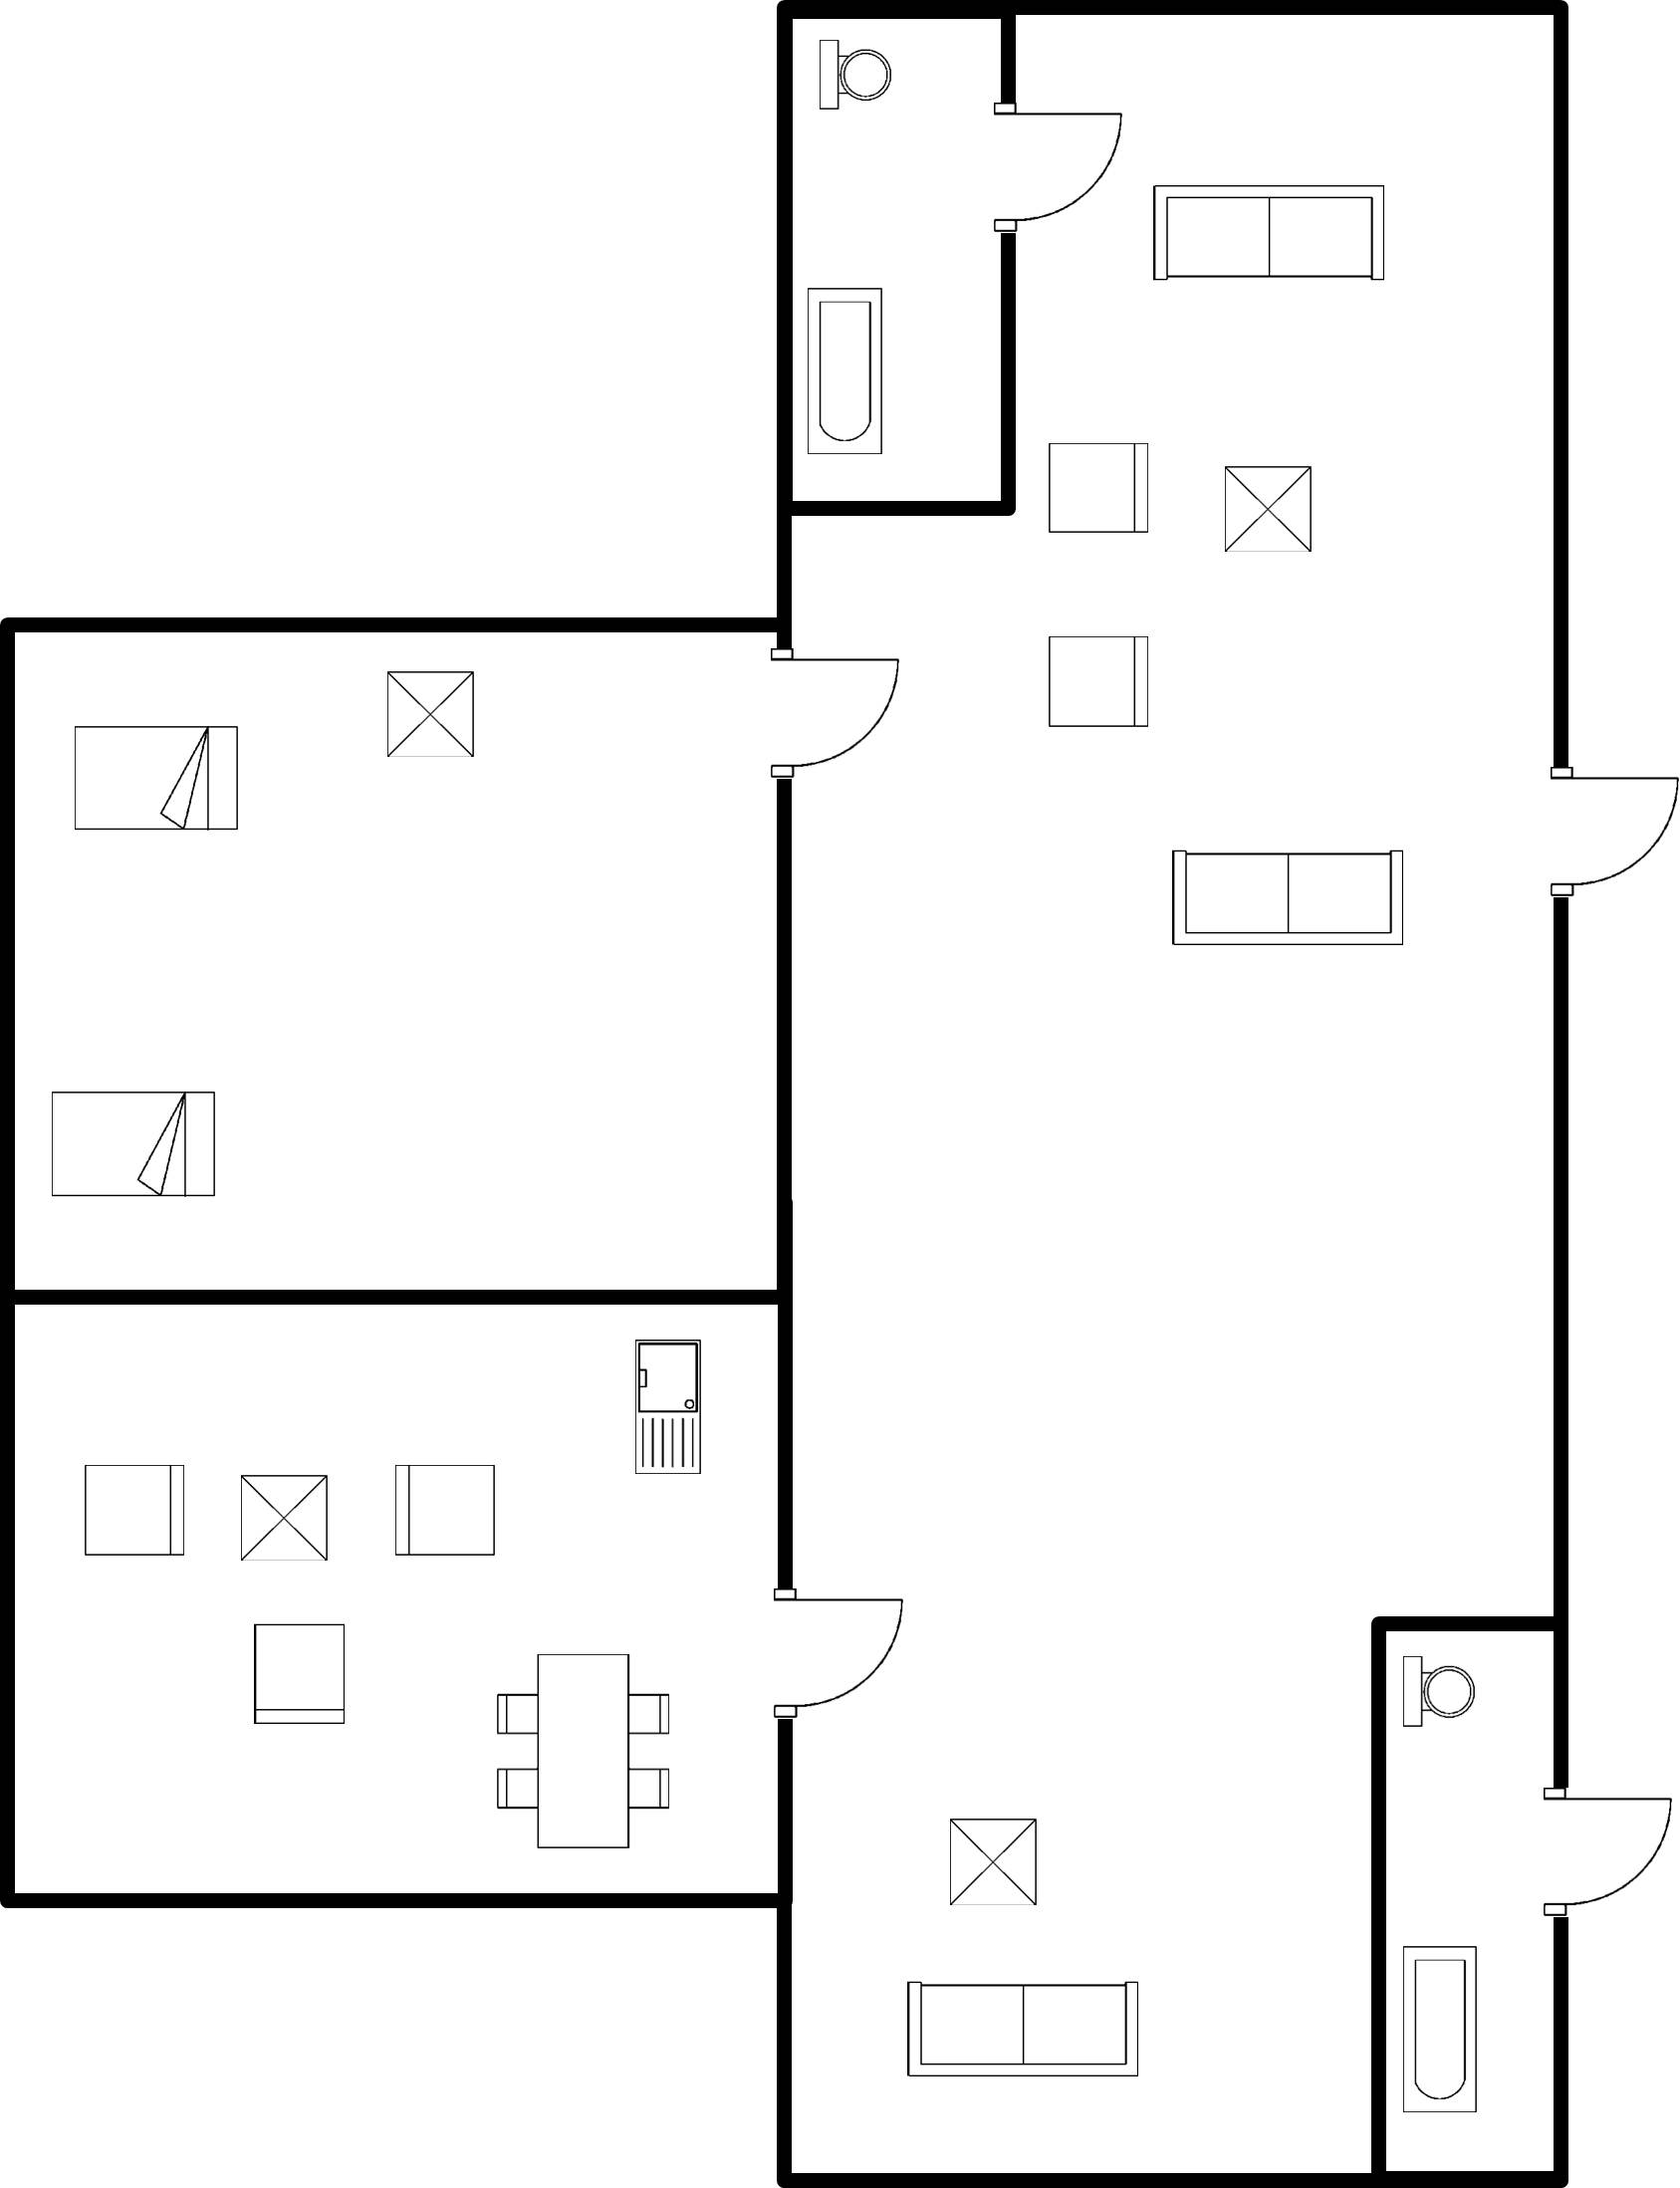bed: (37, 1070, 230, 1217), (61, 714, 252, 851)
coffee_table: (1209, 444, 1325, 565), (372, 656, 494, 771), (933, 1808, 1051, 1922), (226, 1461, 345, 1574)
dining_table: (475, 1634, 682, 1868)
large_sink: (1384, 1641, 1490, 1754), (808, 26, 910, 132)
large_sofa: (879, 1966, 1161, 2095), (1152, 830, 1418, 959), (1137, 168, 1399, 295)
sink: (621, 1328, 711, 1494)
small_sofa: (239, 1612, 366, 1739), (1038, 619, 1165, 743), (381, 1455, 514, 1572), (1031, 431, 1163, 548), (74, 1455, 204, 1572)
tub: (793, 268, 901, 472), (1386, 1933, 1494, 2126)
